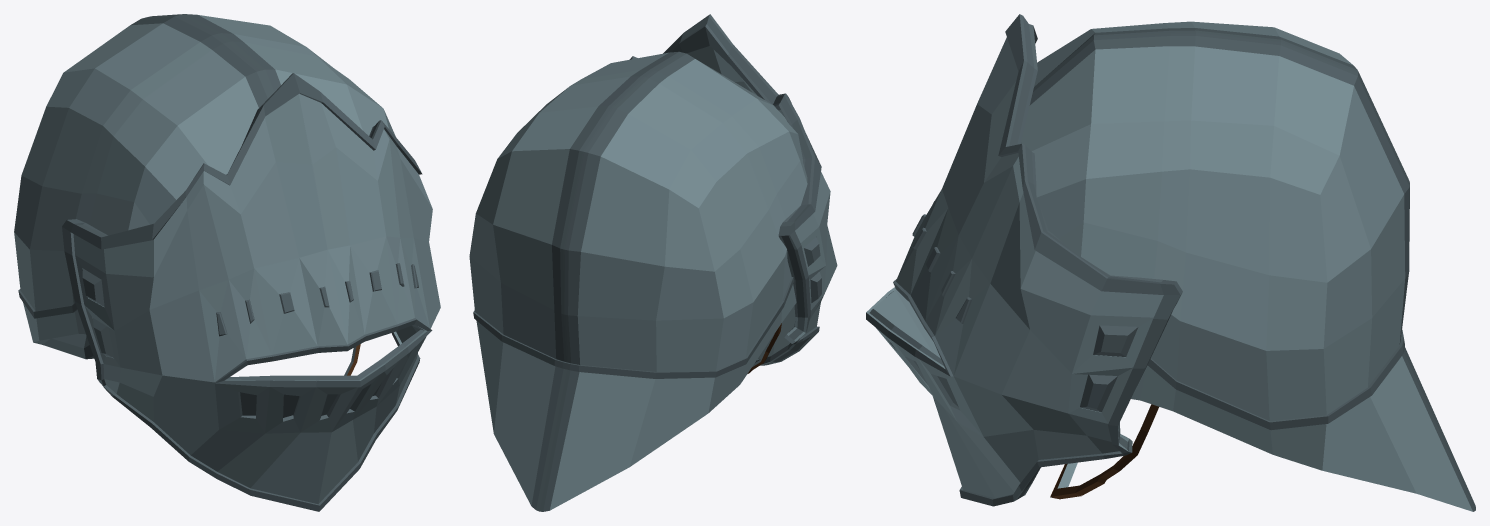
File: Head_Plate_Armor.fbx
The picture shows the model from 3 angles, left to right: view 1: azimuth 30°, elevation 25°; view 2: azimuth 150°, elevation 25°; view 3: azimuth 270°, elevation 25°; orthographic projection. The views are drawn at different scales.
Parts seen in each view (by area): view 1: Cube.012; view 2: Cube.012; view 3: Cube.012.
Boxes of the visible parts, x1=… form: Cube.012: x1=14, y1=14, x2=440, y2=511; Cube.012: x1=469, y1=14, x2=837, y2=511; Cube.012: x1=866, y1=14, x2=1475, y2=511.
Size of the model in its own units: 131 by 163 by 182.
